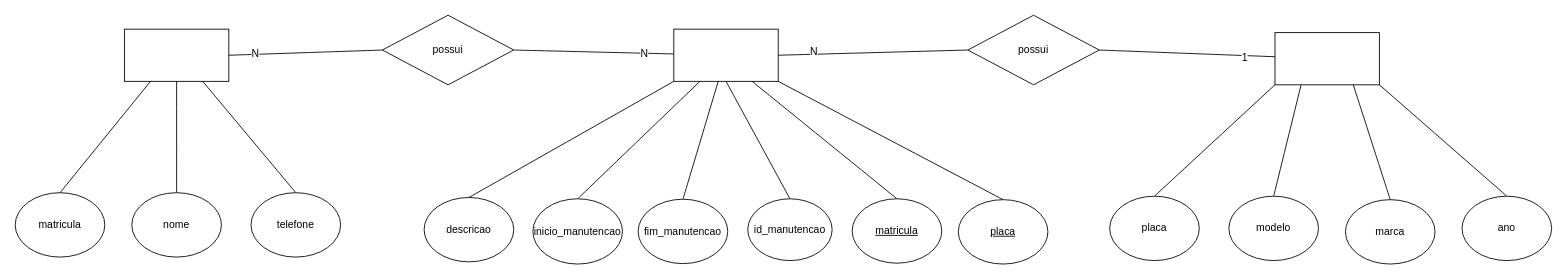
Image size: 1567x279. Some labels were removed from this diagram. Each missing label, with the centre of its shape:
"funcionario" goes at [176,54].
"manutenção" goes at [725,54].
"veiculo" goes at [1326,58].
